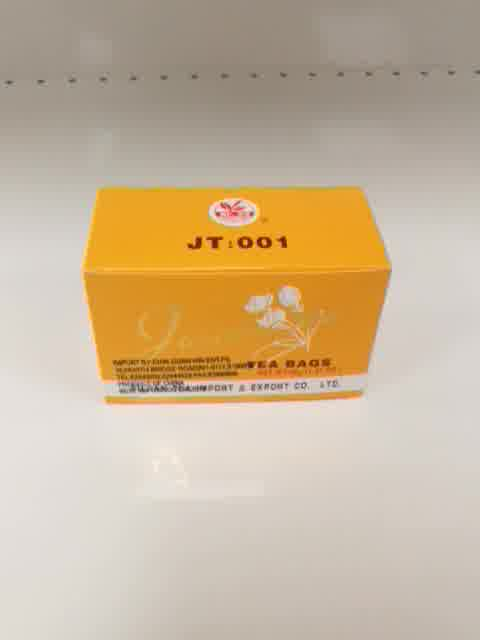jasminetea: (83, 183, 395, 405)
